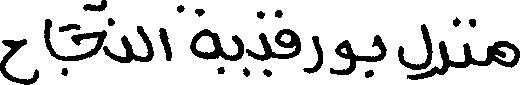X: (191, 4, 220, 78), (73, 0, 105, 65), (399, 19, 431, 84), (0, 34, 38, 84), (481, 36, 519, 72), (277, 5, 299, 63), (332, 35, 356, 79), (260, 6, 271, 81), (305, 31, 322, 78), (433, 36, 449, 80), (137, 21, 151, 66), (159, 23, 170, 65), (121, 30, 133, 67), (45, 14, 54, 61), (375, 30, 386, 66), (465, 14, 470, 72), (234, 30, 241, 65)
